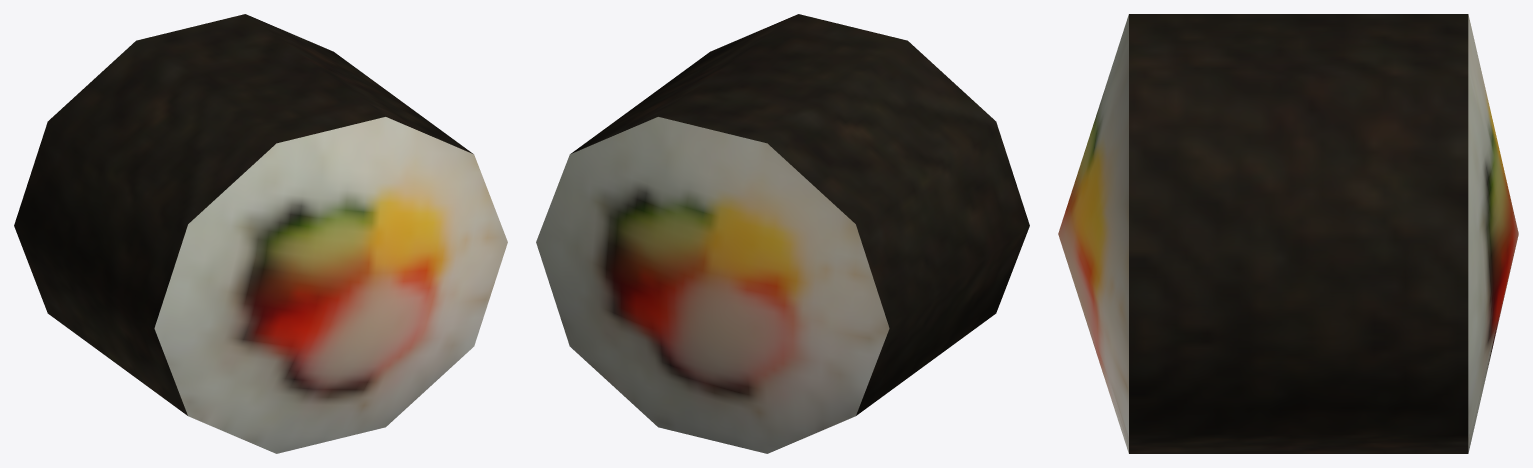
The model's file is Maki.fbx.
3 views of the same model, side by side, from view 1: azimuth 30°, elevation 25°; view 2: azimuth 150°, elevation 25°; view 3: azimuth 270°, elevation 25° (orthographic). The views are drawn at different scales.
Parts seen in each view (by area): view 1: Maki; view 2: Maki; view 3: Maki.
Part boxes in pixels (<box>): Maki: <box>14,14,507,453</box>; Maki: <box>536,14,1029,453</box>; Maki: <box>1058,14,1518,453</box>.
Bounding box in the file's own units: 7.39 × 6.9 × 6.2.
